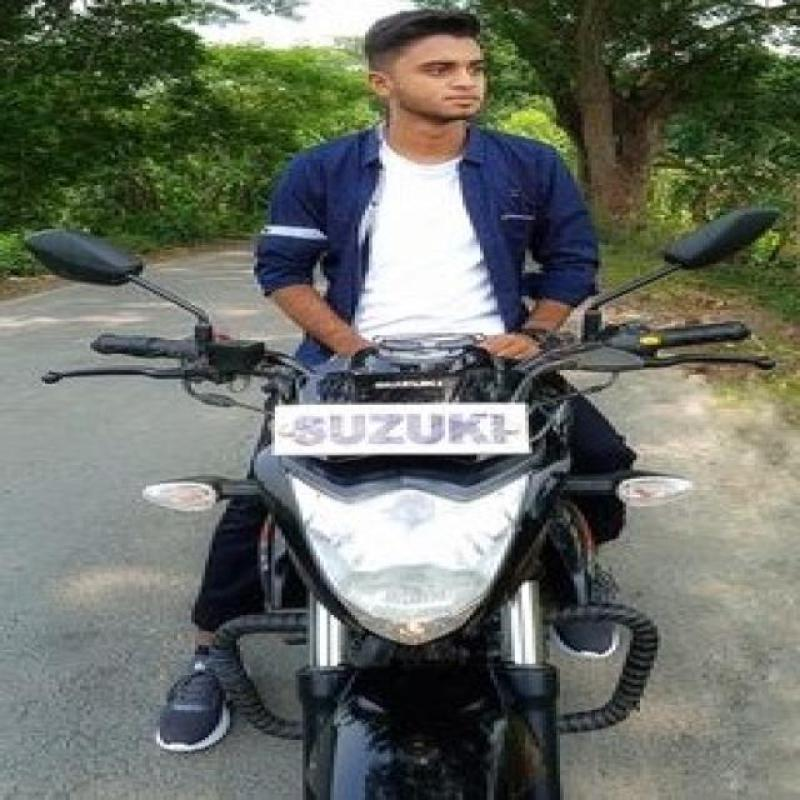nohelmet: (342, 24, 528, 128)
